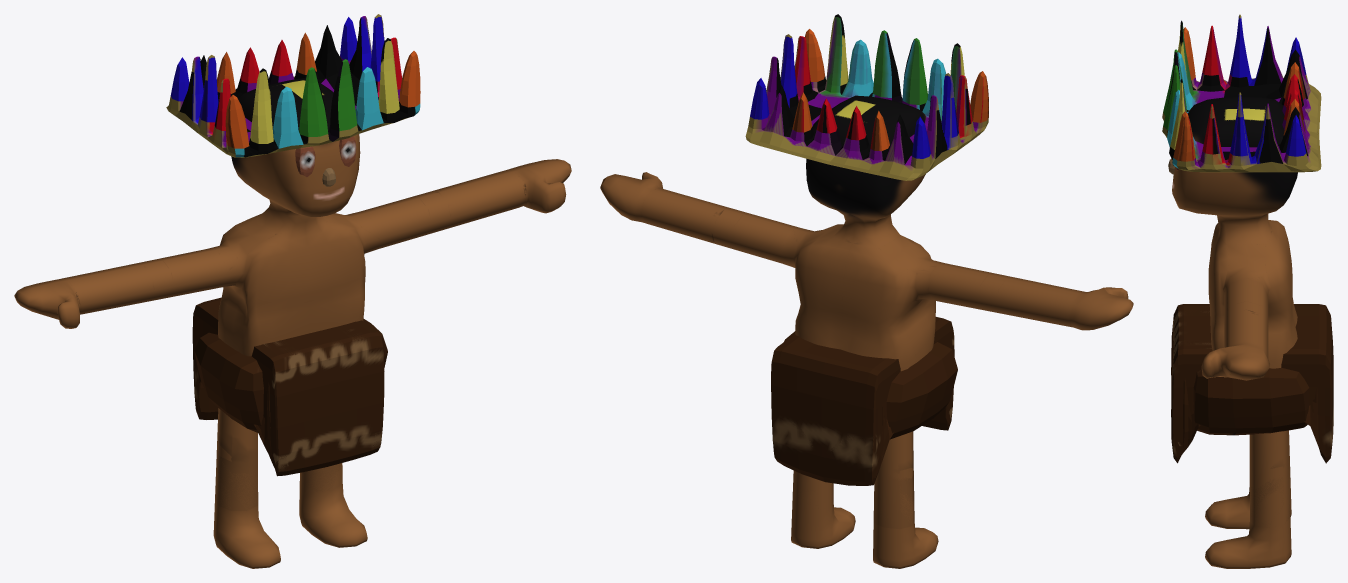
File: monopenacho.obj
3 views of the same model, side by side, from view 1: azimuth 30°, elevation 25°; view 2: azimuth 150°, elevation 25°; view 3: azimuth 270°, elevation 25° (orthographic). The views are drawn at different scales.
Visible parts, largest first — view 1: Personaje; view 2: Personaje; view 3: Personaje.
Boxes of the visible parts, x1,y1,x2,y2 form: Personaje: (14,14,571,568); Personaje: (600,14,1133,568); Personaje: (1162,14,1333,568).
Bounding box in the file's own units: 8.51 × 7.56 × 2.39.
